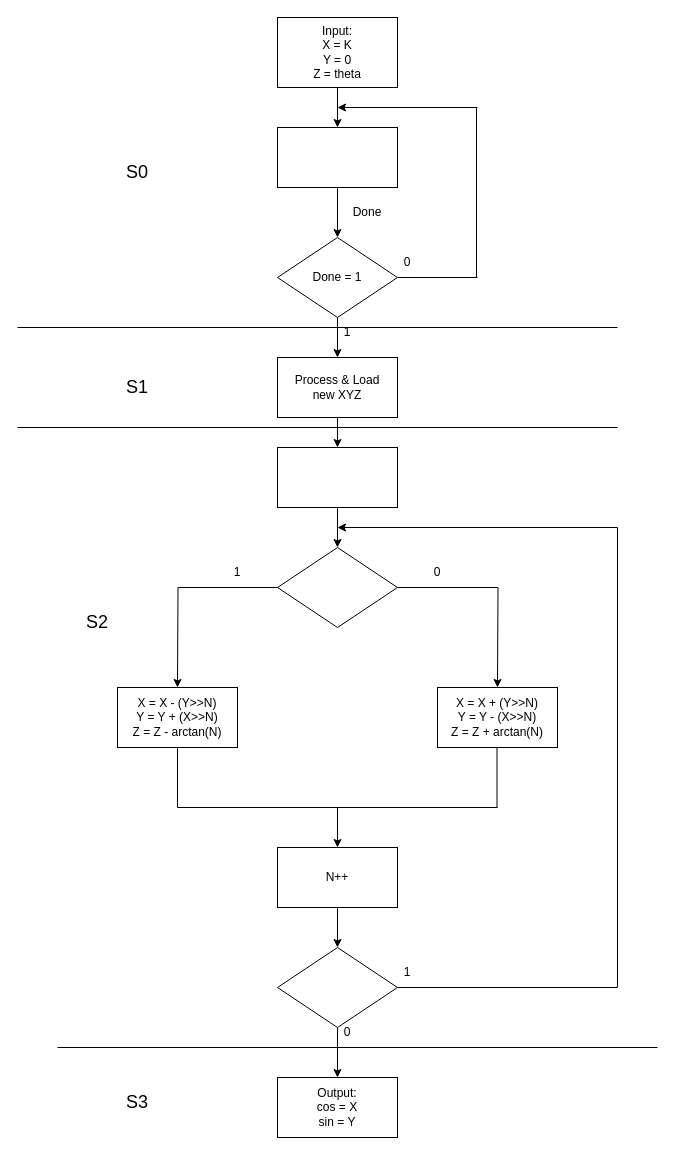
Image size: 676x1155. Some labels were removed from this diagram. Here are the shapes that lost their labels. From the top down, the centre of each, then its label:
point 337,157: Calibrate input
point 337,477: N= 0
point 337,587: Z >= 0
point 337,987: N < 15
